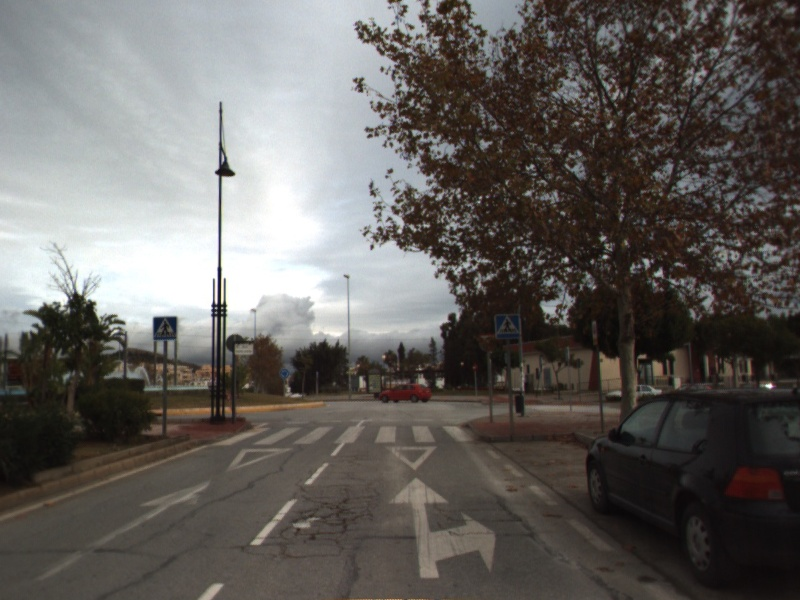STRAIGHT: (32, 477, 214, 583)
STRAIGHT_RIGHT: (386, 475, 498, 581)
